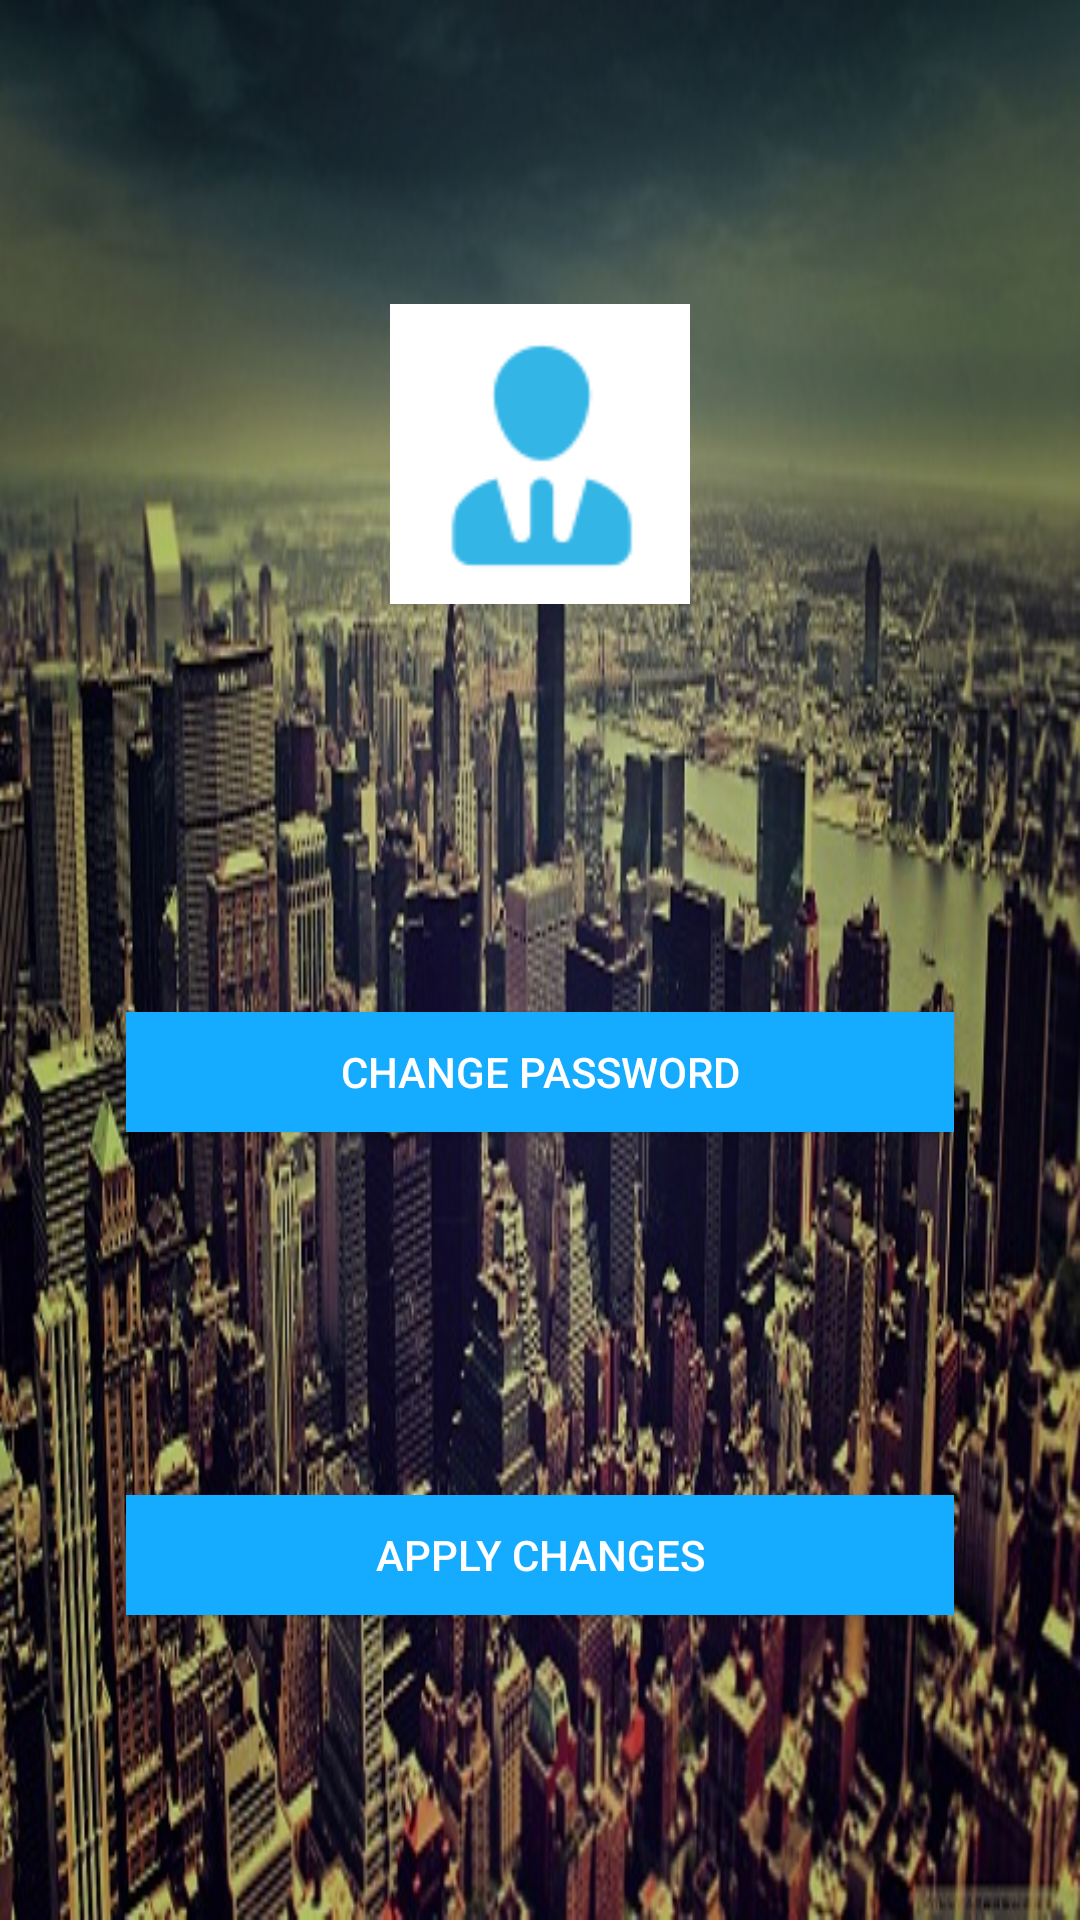

Icons on this 1080*1920 Android screen, each with the point to tap as [x,y]:
user: [540,454]
